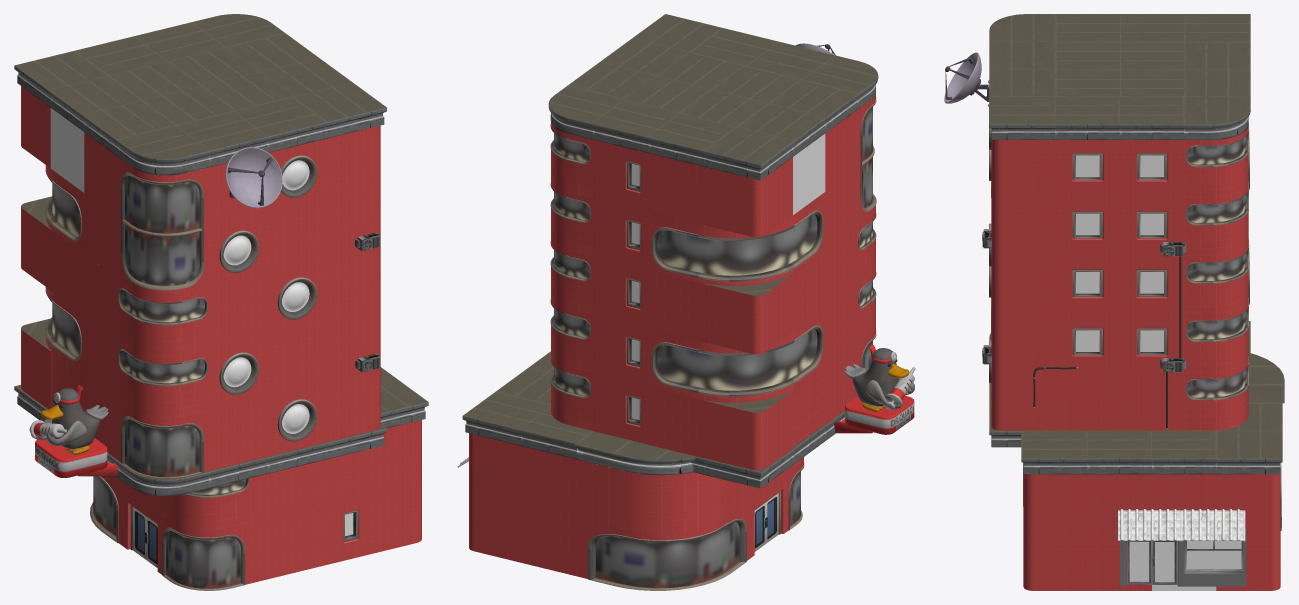
File: Building2.gltf
3 renders of one model, left to right at view 1: azimuth 30°, elevation 25°; view 2: azimuth 150°, elevation 25°; view 3: azimuth 270°, elevation 25°, orthographic. The views are drawn at different scales.
Parts seen in each view (by area): view 1: SM_BlockB3-1.003, SM_BlockB3-1, SM_BlockB1.004, SM_BlockB1.005, SM_BlockB3-1.001, SM_BlockB3-1.002, SM_DRQuack, SM_Window_3x3_02.001, SM_Window_3x3_02.003, SM_Window_3x3_04.005, SM_Window_3x3_02.002, SM_Wall_3x3_01.002 (+53 smaller); view 2: SM_BlockB1.006, SM_BlockB3-1.004, SM_BlockB1.007, SM_Corner_3x3_02, SM_Corner_3x3_03.005, SM_Corner_3x3_03.007, SM_Corner_3x3_03.006, SM_DRQuack, SM_Wall_3x3_01.015, SM_Roof_3x3_03.003, SM_Wall_3x3_01.014, SM_Window_3x3_04.003 (+48 smaller); view 3: SM_BlockB1.001, SM_Corner_3x3_03.002, SM_Window_3x3_03.002, SM_Corner_3x3_03.009, SM_Window_3x3_03.004, SM_Window_3x3_03.006, SM_Window_3x3_03.007, SM_BlockB1.003, SM_Corner_3x3_03.003, SM_BlockB1.002, SM_Corner_3x3_03.011, SM_BlockB1 (+43 smaller).
Part boxes in pixels (x1,y1,x2,y2): SM_BlockB3-1.003: [159, 512, 251, 590]; SM_BlockB3-1: [118, 218, 209, 297]; SM_BlockB1.004: [118, 340, 209, 418]; SM_BlockB1.005: [118, 279, 209, 357]; SM_BlockB3-1.001: [118, 157, 209, 235]; SM_BlockB3-1.002: [118, 401, 209, 477]; SM_DRQuack: [29, 385, 117, 477]; SM_Window_3x3_02.001: [268, 261, 326, 335]; SM_Window_3x3_02.003: [209, 214, 267, 288]; SM_Window_3x3_04.005: [309, 494, 367, 568]; SM_Window_3x3_02.002: [209, 336, 267, 410]; SM_Wall_3x3_01.002: [268, 321, 326, 396]; SM_BlockB1.006: [649, 309, 825, 446]; SM_BlockB3-1.004: [577, 498, 753, 590]; SM_BlockB1.007: [649, 192, 825, 341]; SM_Corner_3x3_02: [577, 459, 753, 533]; SM_Corner_3x3_03.005: [704, 274, 792, 354]; SM_Corner_3x3_03.007: [704, 391, 792, 470]; SM_Corner_3x3_03.006: [704, 157, 792, 237]; SM_DRQuack: [834, 345, 915, 434]; SM_Wall_3x3_01.015: [648, 270, 704, 342]; SM_Roof_3x3_03.003: [575, 431, 696, 475]; SM_Wall_3x3_01.014: [648, 387, 704, 458]; SM_Window_3x3_04.003: [593, 198, 648, 270]; SM_BlockB1.001: [1184, 239, 1248, 314]; SM_Corner_3x3_03.002: [991, 253, 1055, 314]; SM_Window_3x3_03.002: [1055, 198, 1119, 256]; SM_Corner_3x3_03.009: [1023, 529, 1087, 590]; SM_Window_3x3_03.004: [1055, 256, 1119, 314]; SM_Window_3x3_03.006: [1055, 140, 1119, 198]; SM_Window_3x3_03.007: [1120, 140, 1184, 198]; SM_BlockB1.003: [1184, 123, 1248, 198]; SM_Corner_3x3_03.003: [991, 195, 1055, 256]; SM_BlockB1.002: [1184, 181, 1248, 256]; SM_Corner_3x3_03.011: [1023, 474, 1087, 532]; SM_BlockB1: [1184, 298, 1248, 373].
Size of the model in its own units: 19.85 by 22.65 by 15.88.
